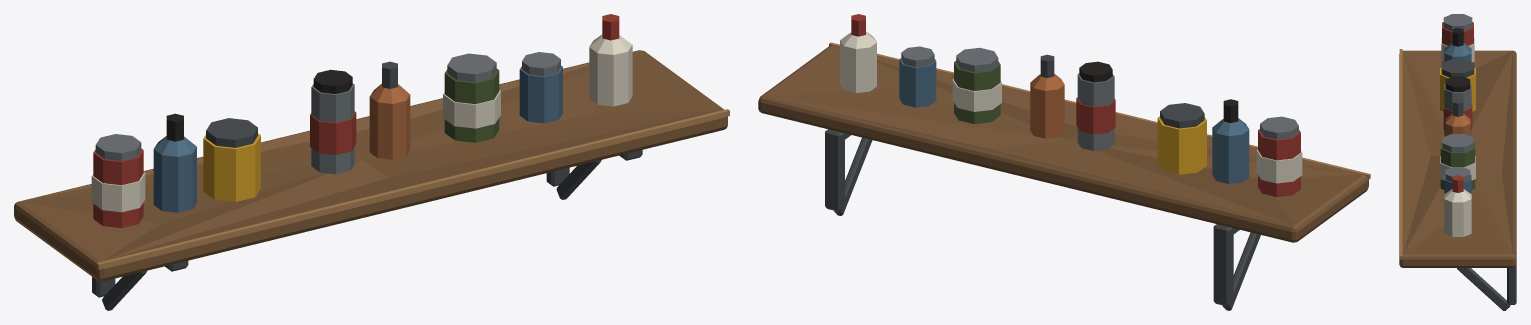
The model's file is shelf_wood_derevyannaya_metal_ugolok_idle.glb.
3 views of the same model, side by side, from view 1: azimuth 30°, elevation 25°; view 2: azimuth 150°, elevation 25°; view 3: azimuth 270°, elevation 25° (orthographic). The views are drawn at different scales.
Parts seen in each view (by area): view 1: shelf_wood_derevyannaya_metal_ugolok_idle; view 2: shelf_wood_derevyannaya_metal_ugolok_idle; view 3: shelf_wood_derevyannaya_metal_ugolok_idle.
Part boxes in pixels (x1,y1,x2,y2): shelf_wood_derevyannaya_metal_ugolok_idle: (14,14,729,310); shelf_wood_derevyannaya_metal_ugolok_idle: (758,14,1370,310); shelf_wood_derevyannaya_metal_ugolok_idle: (1399,14,1516,310).
Size of the model in its own units: 1 by 0.3194 by 0.24.
Materials: 1 (1 with a texture image).
